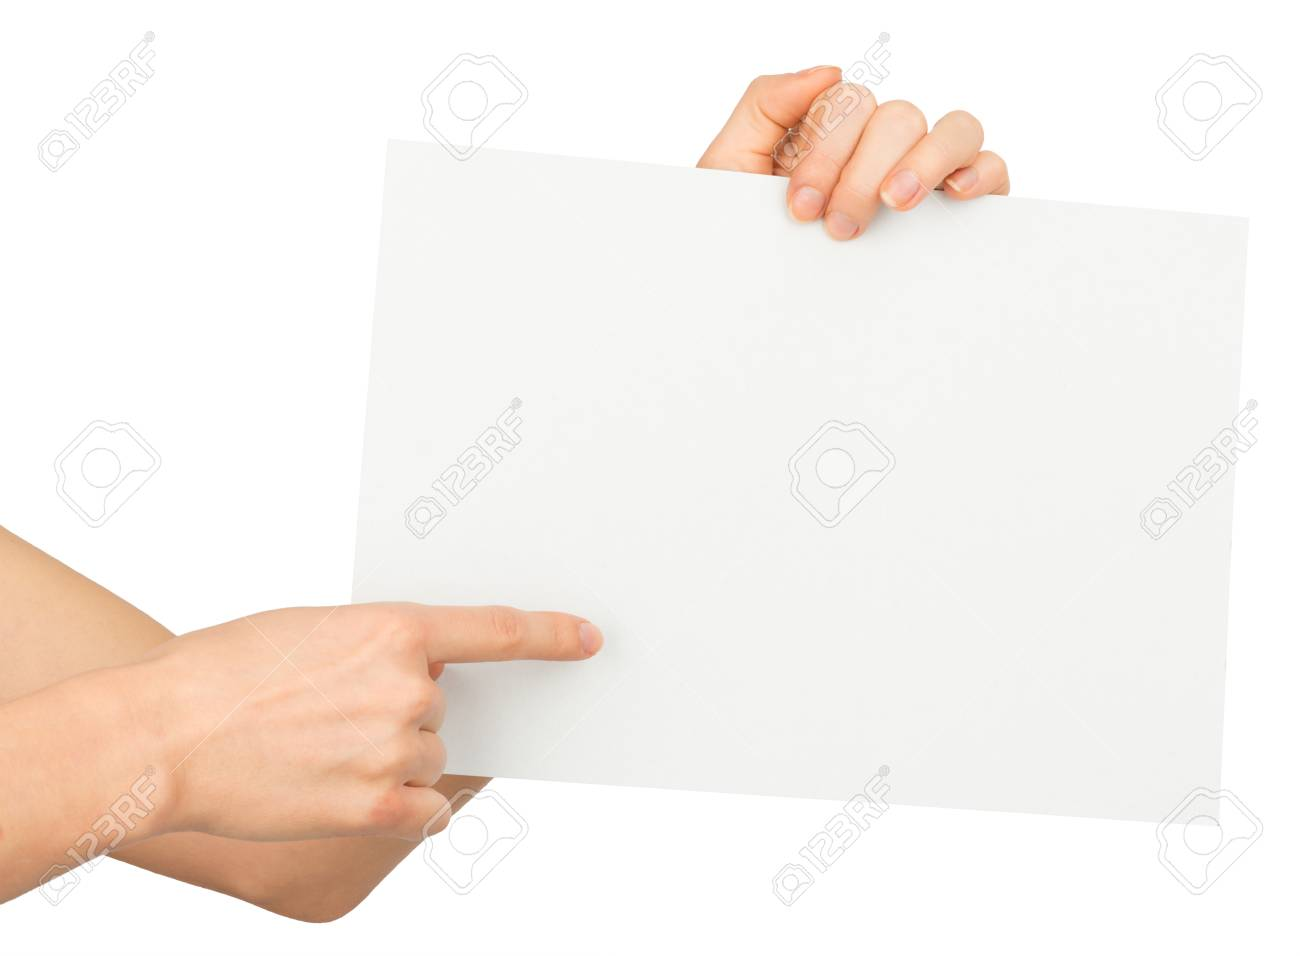pointing_gesture: (175, 598, 605, 843)
